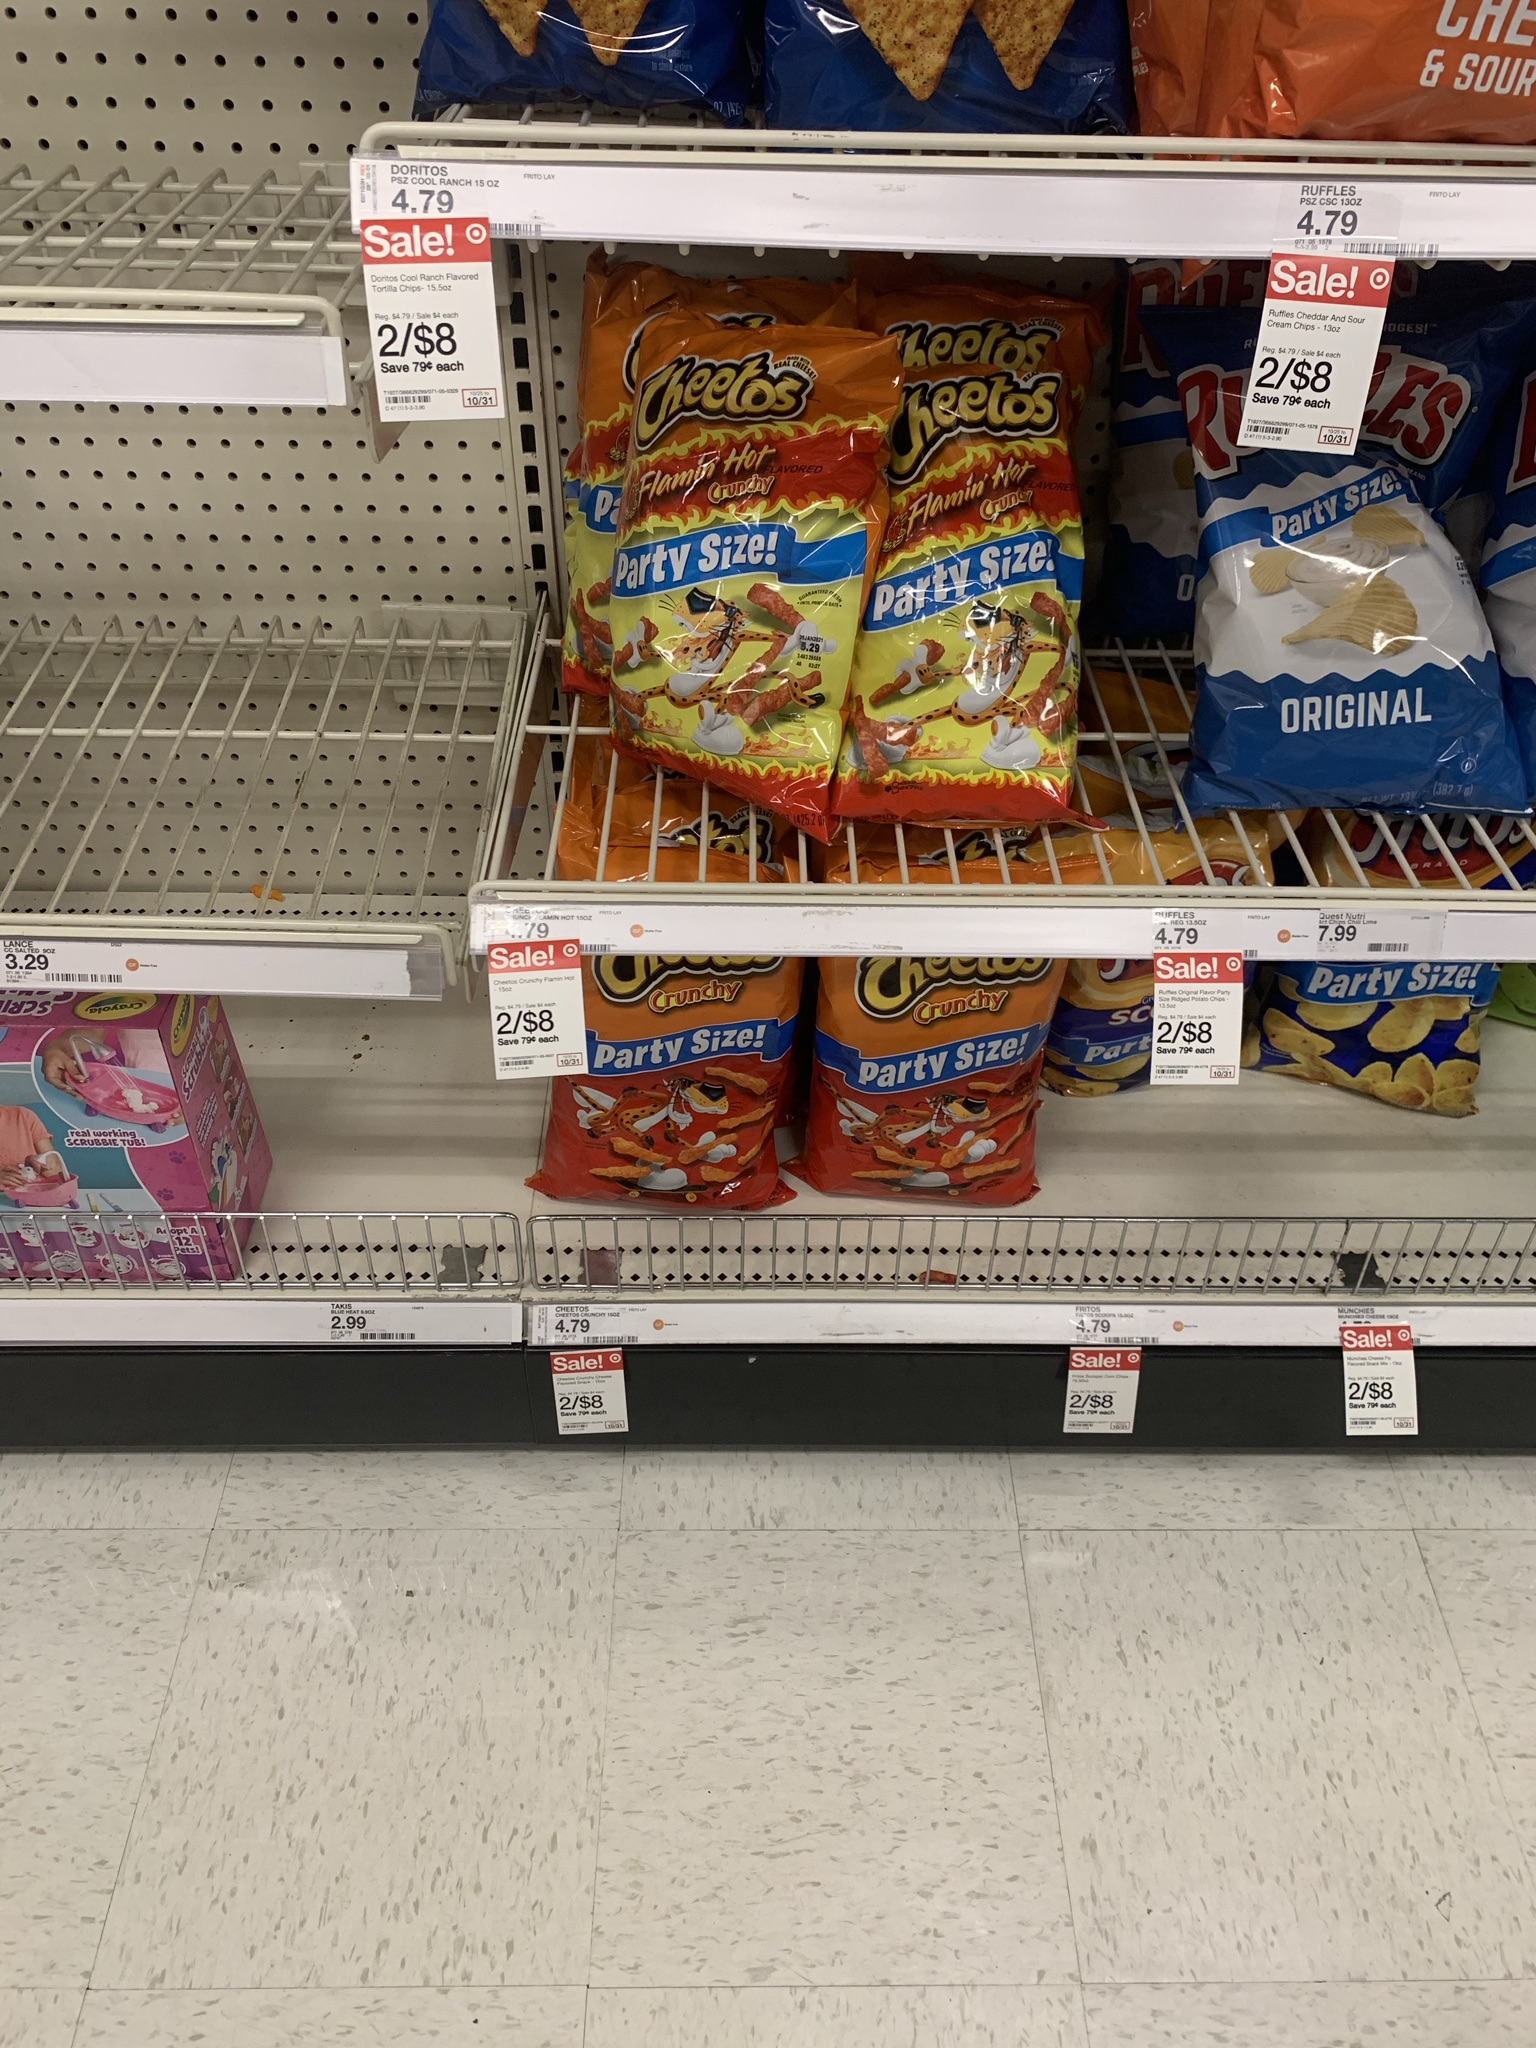cheetos chips: (658, 319, 829, 814), (899, 381, 1079, 819), (829, 964, 1052, 1197), (579, 956, 779, 1201)
ruffles chips: (1197, 379, 1526, 811)
